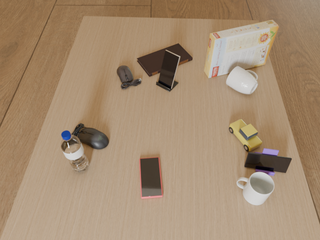book: (137, 43, 192, 77)
bottle: (61, 131, 89, 173)
box: (204, 20, 279, 78)
cup: (237, 172, 274, 205), (226, 66, 258, 94)
mouse: (72, 123, 109, 149), (117, 66, 141, 89)
phone: (244, 152, 292, 173), (139, 157, 163, 199), (158, 50, 180, 89)
toy_car: (229, 119, 262, 151)
